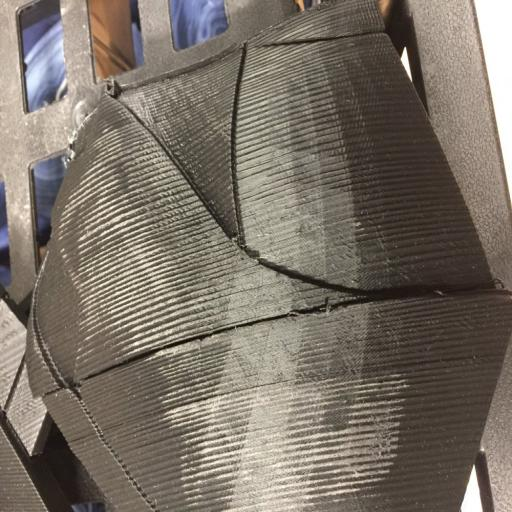cracks: (49, 276, 459, 411)
